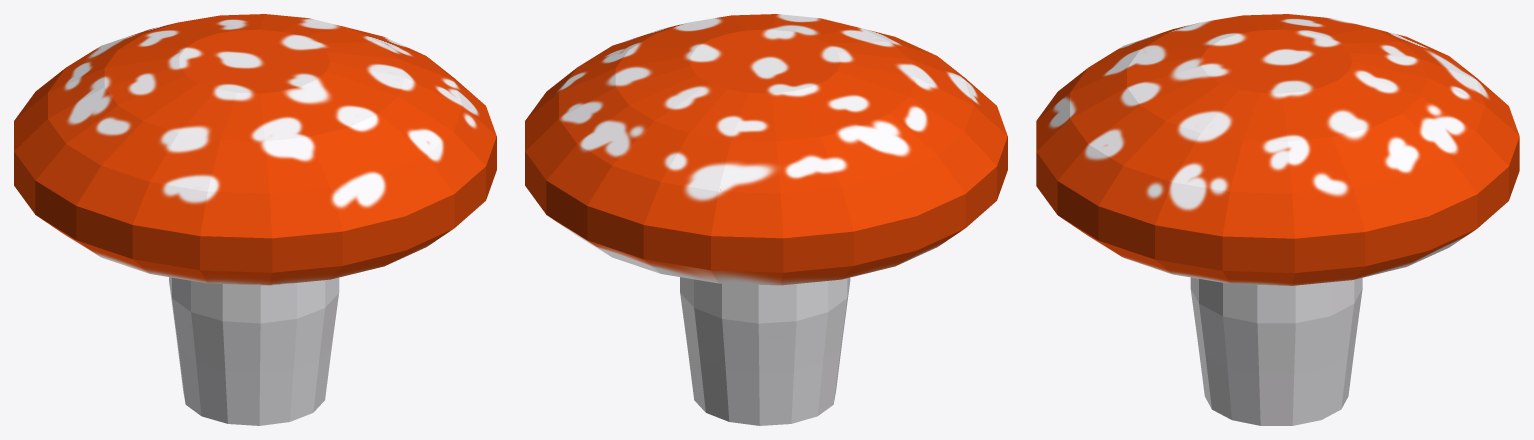
The model's file is model_mushroom_v1.fbx.
3 views of the same model, side by side, from view 1: azimuth 30°, elevation 25°; view 2: azimuth 150°, elevation 25°; view 3: azimuth 270°, elevation 25° (orthographic).
Visible parts, largest first — view 1: low; view 2: low; view 3: low.
Boxes of the visible parts, x1,y1,x2,y2 form: low: (14, 14, 496, 425); low: (525, 14, 1007, 425); low: (1036, 14, 1519, 425).
Size of the model in its own units: 520 by 396 by 518.
